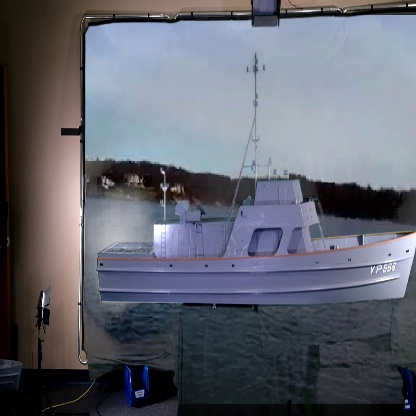YP689: (94, 49, 416, 309)
